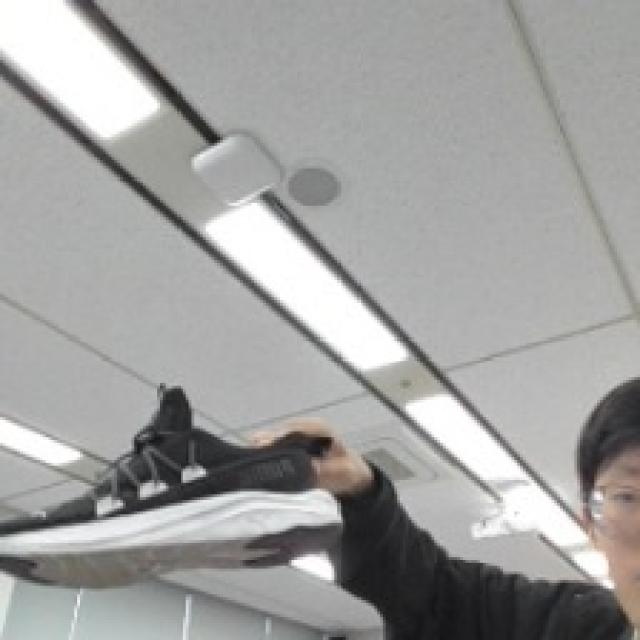shoes: (33, 383, 355, 611)
